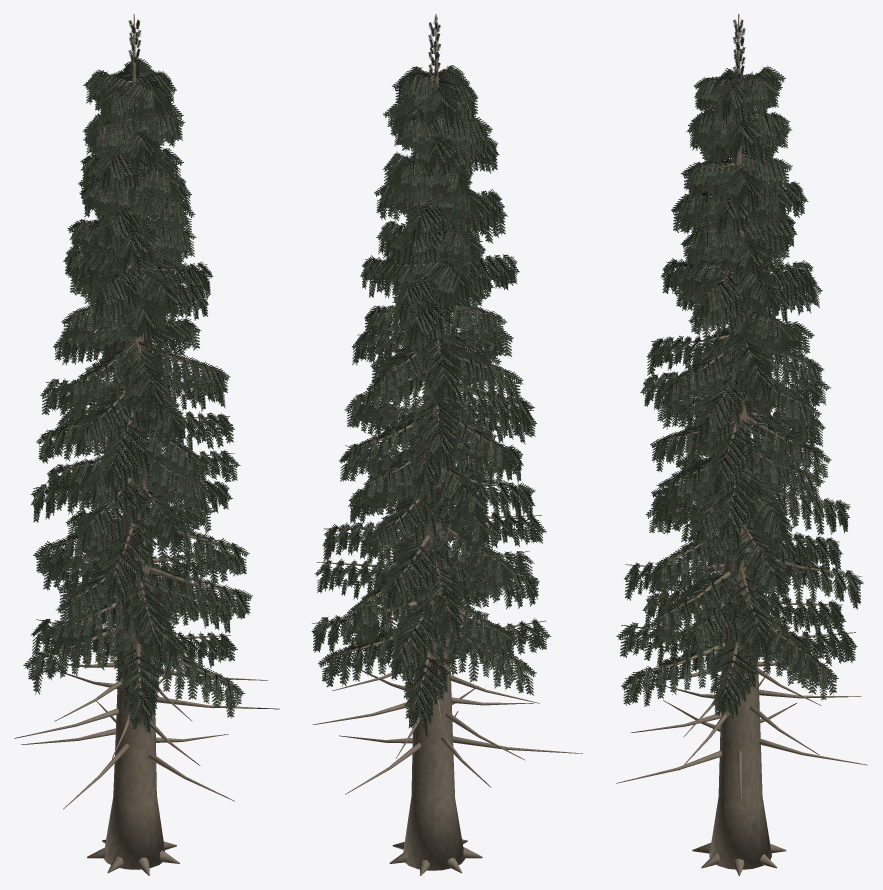
File: Sitka_Mature_01.fbx
3 views of the same model, side by side, from view 1: azimuth 30°, elevation 25°; view 2: azimuth 150°, elevation 25°; view 3: azimuth 270°, elevation 25° (orthographic).
Parts seen in each view (by area): view 1: Sitka_Mature_01_Needles, Sitka_Mature_01_Bark; view 2: Sitka_Mature_01_Needles, Sitka_Mature_01_Bark; view 3: Sitka_Mature_01_Needles, Sitka_Mature_01_Bark.
Part boxes in pixels (x1,y1,x2,y2): Sitka_Mature_01_Needles: (23,19,252,734); Sitka_Mature_01_Bark: (14,14,279,875); Sitka_Mature_01_Needles: (311,16,551,737); Sitka_Mature_01_Bark: (312,14,582,875); Sitka_Mature_01_Needles: (616,19,863,719); Sitka_Mature_01_Bark: (616,14,867,875).
Size of the model in its own units: 781 by 2801 by 775.
